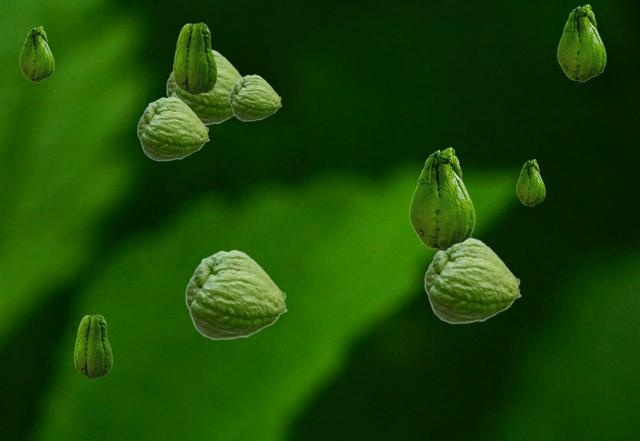sayote: (185, 249, 287, 339), (424, 237, 521, 323), (409, 147, 474, 250), (166, 49, 242, 125), (137, 96, 209, 160), (557, 4, 605, 81), (173, 22, 216, 94), (229, 74, 281, 120), (74, 314, 111, 378), (19, 26, 53, 81), (516, 159, 544, 205)
